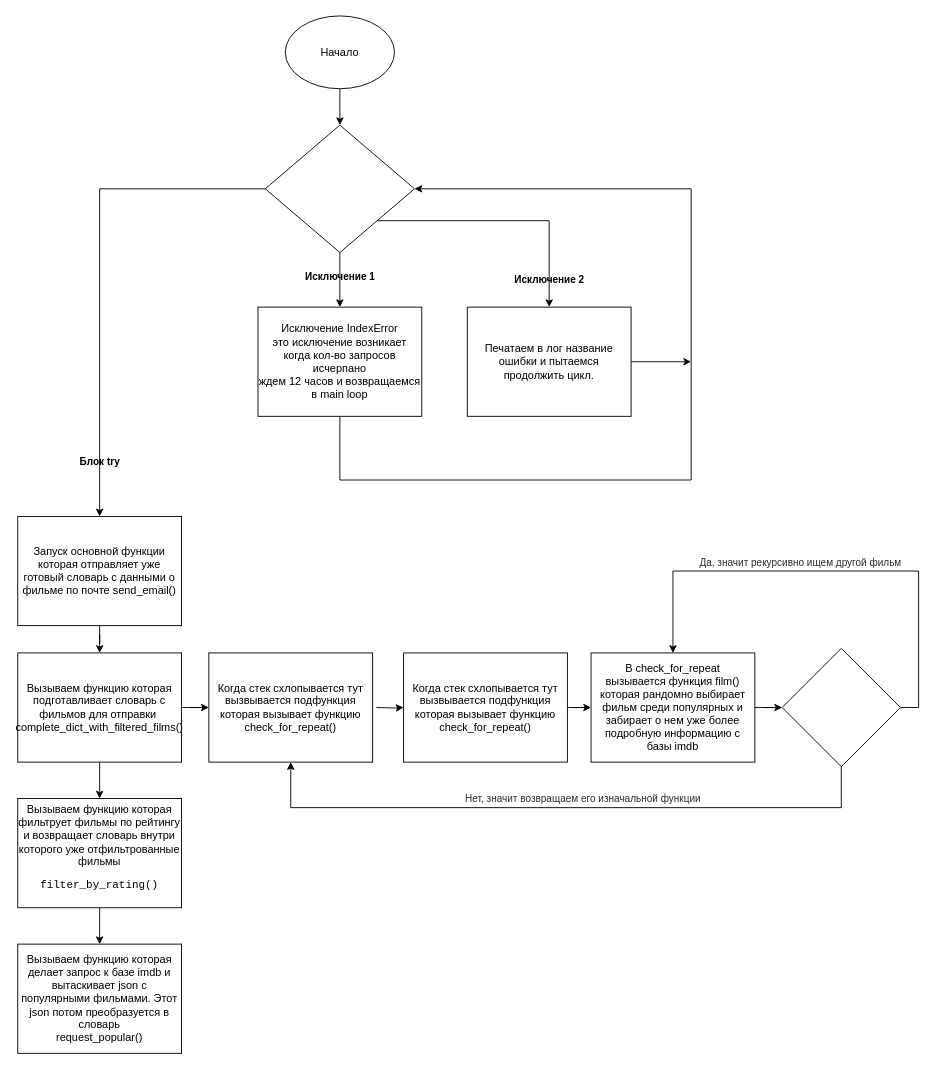
Some shapes in this 942 by 1069 pixel diagram are drawn without their labels. The centre of each missing label's shape, as x and y in pixels:
Бесконечный цикл while True: the point at 339,188
Был ли фильм film() уже отправлен?: the point at 840,707
